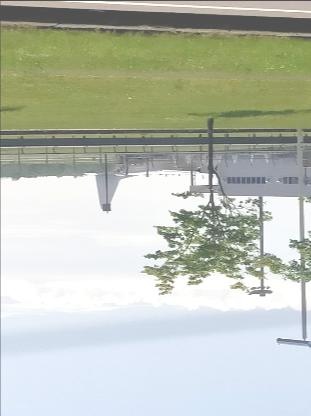Be200: (82, 159, 207, 209)
